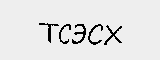А: (27, 19, 43, 37)
Х: (11, 20, 28, 37), (43, 17, 59, 35)
Ш: (135, 19, 152, 39)
Ю: (86, 14, 132, 43)
Ң: (56, 13, 86, 45)
